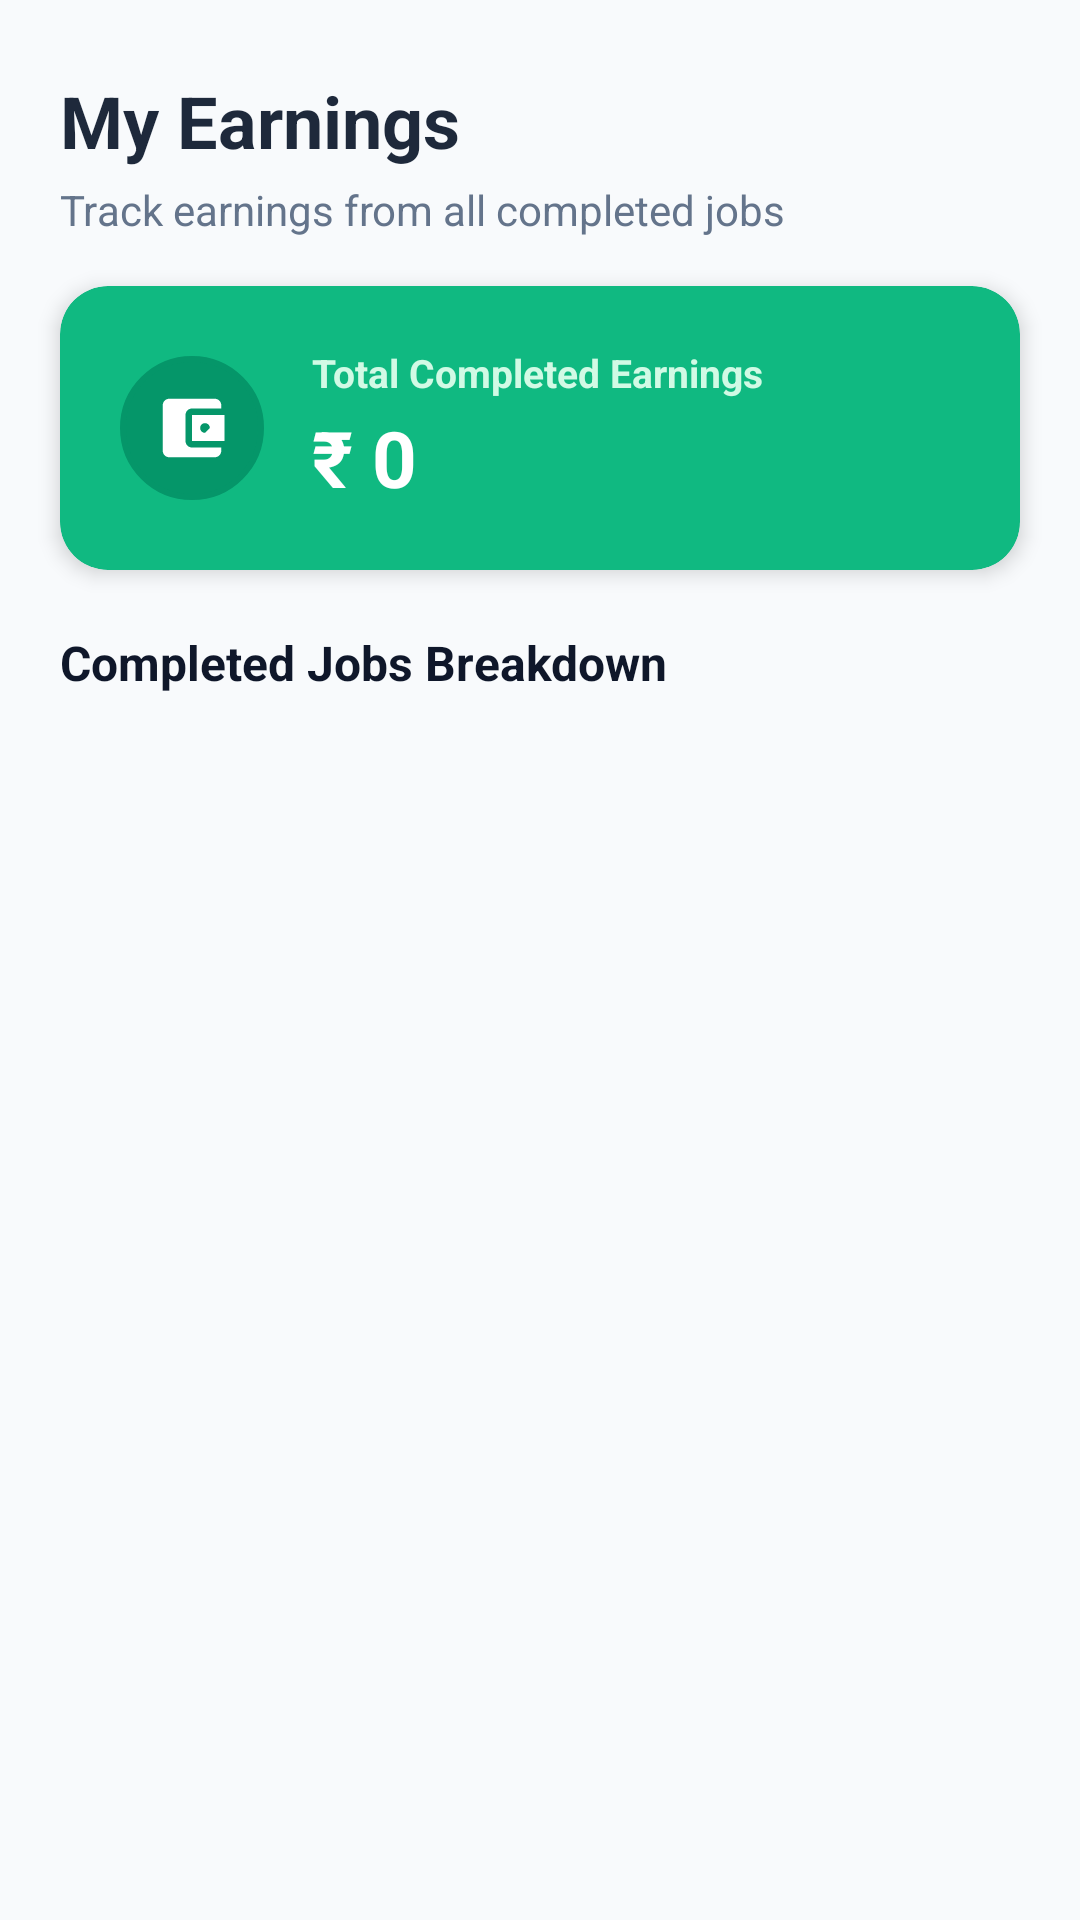

Screen size 1080x1920. Icon name, then its box in pixels as (x1, y1, x2, y2):
wallet: (162, 398, 225, 458)
